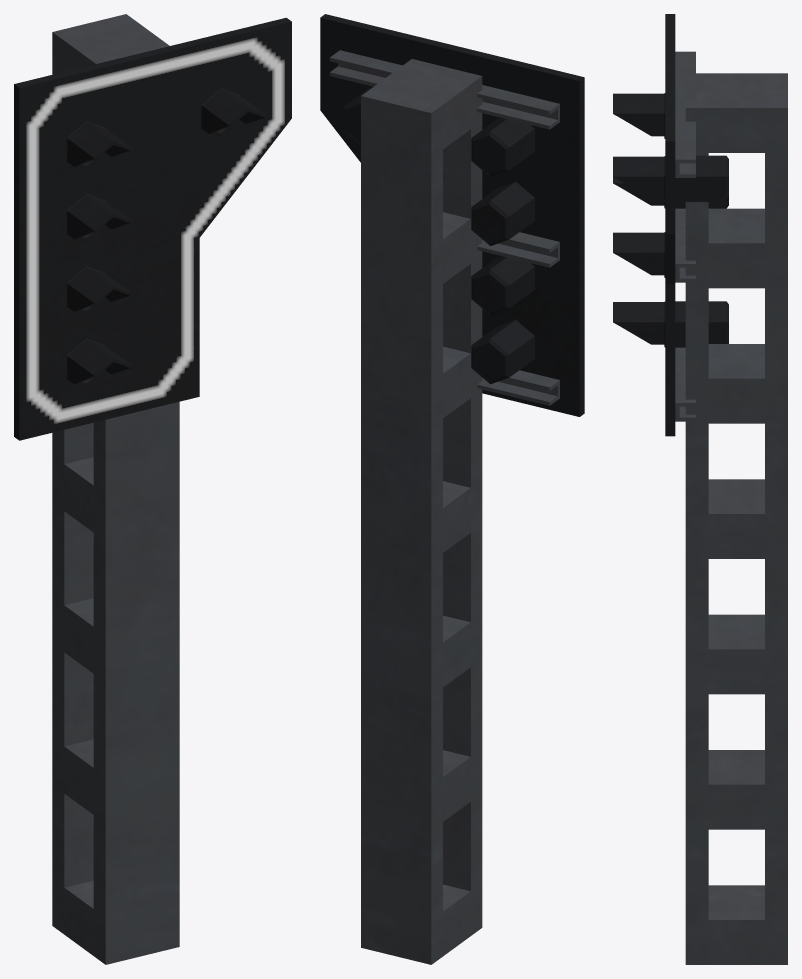
The model's file is signal_normal_flow.obj.
3 renders of one model, left to right at view 1: azimuth 30°, elevation 25°; view 2: azimuth 150°, elevation 25°; view 3: azimuth 270°, elevation 25°, orthographic. The views are drawn at different scales.
Parts seen in each view (by area): view 1: SignalHead_Cube.003, Pole_Cube.002; view 2: Pole_Cube.002, SignalHead_Cube.003; view 3: Pole_Cube.002, SignalHead_Cube.003.
Part boxes in pixels (x1,y1,x2,y2): SignalHead_Cube.003: [14, 17, 291, 440]; Pole_Cube.002: [52, 14, 179, 964]; Pole_Cube.002: [329, 50, 559, 964]; SignalHead_Cube.003: [320, 14, 584, 416]; Pole_Cube.002: [675, 51, 787, 964]; SignalHead_Cube.003: [613, 14, 728, 436].
Bounding box in the file's own units: 0.59 × 1.88 × 0.342.
